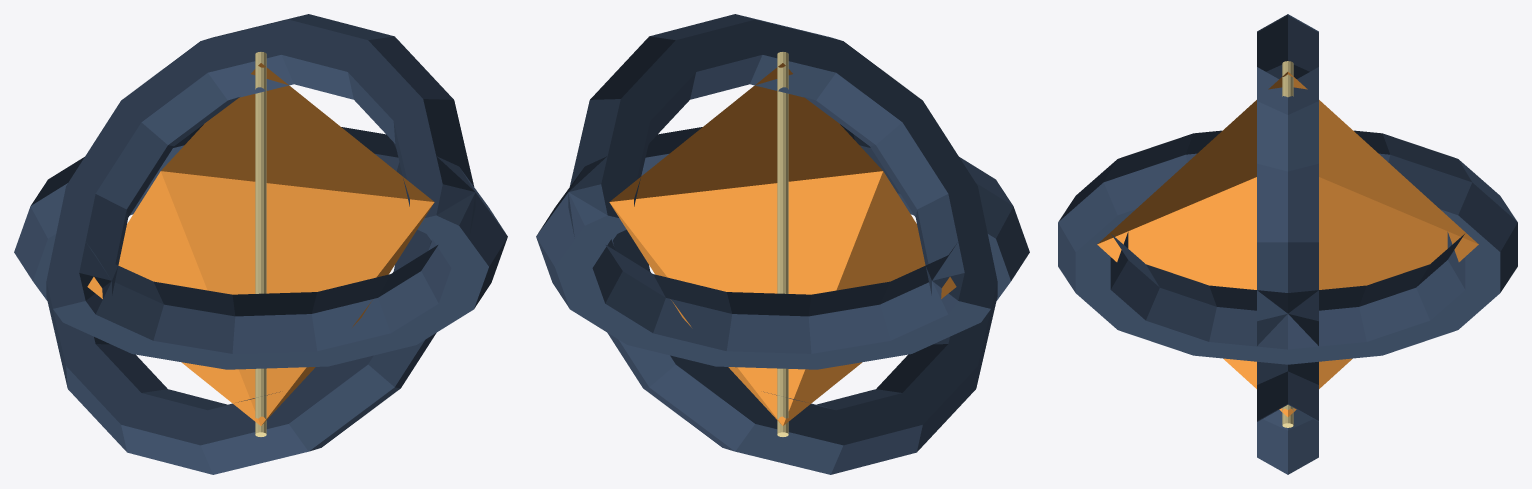
File: minglora_diamond_basketball.gltf
3 renders of one model, left to right at view 1: azimuth 30°, elevation 25°; view 2: azimuth 150°, elevation 25°; view 3: azimuth 270°, elevation 25°, orthographic. The views are drawn at different scales.
Parts seen in each view (by area): view 1: minglora_diamond_basketball_2, minglora_diamond_basketball_0, minglora_diamond_basketball_1, minglora_diamond_basketball_3; view 2: minglora_diamond_basketball_2, minglora_diamond_basketball_0, minglora_diamond_basketball_1, minglora_diamond_basketball_3; view 3: minglora_diamond_basketball_1, minglora_diamond_basketball_0, minglora_diamond_basketball_2, minglora_diamond_basketball_3.
Boxes of the visible parts, box(x1,y1,x2,y2) form: minglora_diamond_basketball_2: box(46, 14, 475, 474); minglora_diamond_basketball_0: box(87, 63, 434, 425); minglora_diamond_basketball_1: box(14, 124, 507, 369); minglora_diamond_basketball_3: box(255, 52, 266, 436); minglora_diamond_basketball_2: box(568, 14, 997, 474); minglora_diamond_basketball_0: box(609, 63, 956, 425); minglora_diamond_basketball_1: box(536, 124, 1029, 369); minglora_diamond_basketball_3: box(777, 52, 788, 436); minglora_diamond_basketball_1: box(1058, 130, 1517, 364); minglora_diamond_basketball_0: box(1097, 72, 1478, 416); minglora_diamond_basketball_2: box(1257, 14, 1318, 474); minglora_diamond_basketball_3: box(1282, 61, 1293, 427).
Bounding box in the file's own units: 2.12 × 2.07 × 2.07.
